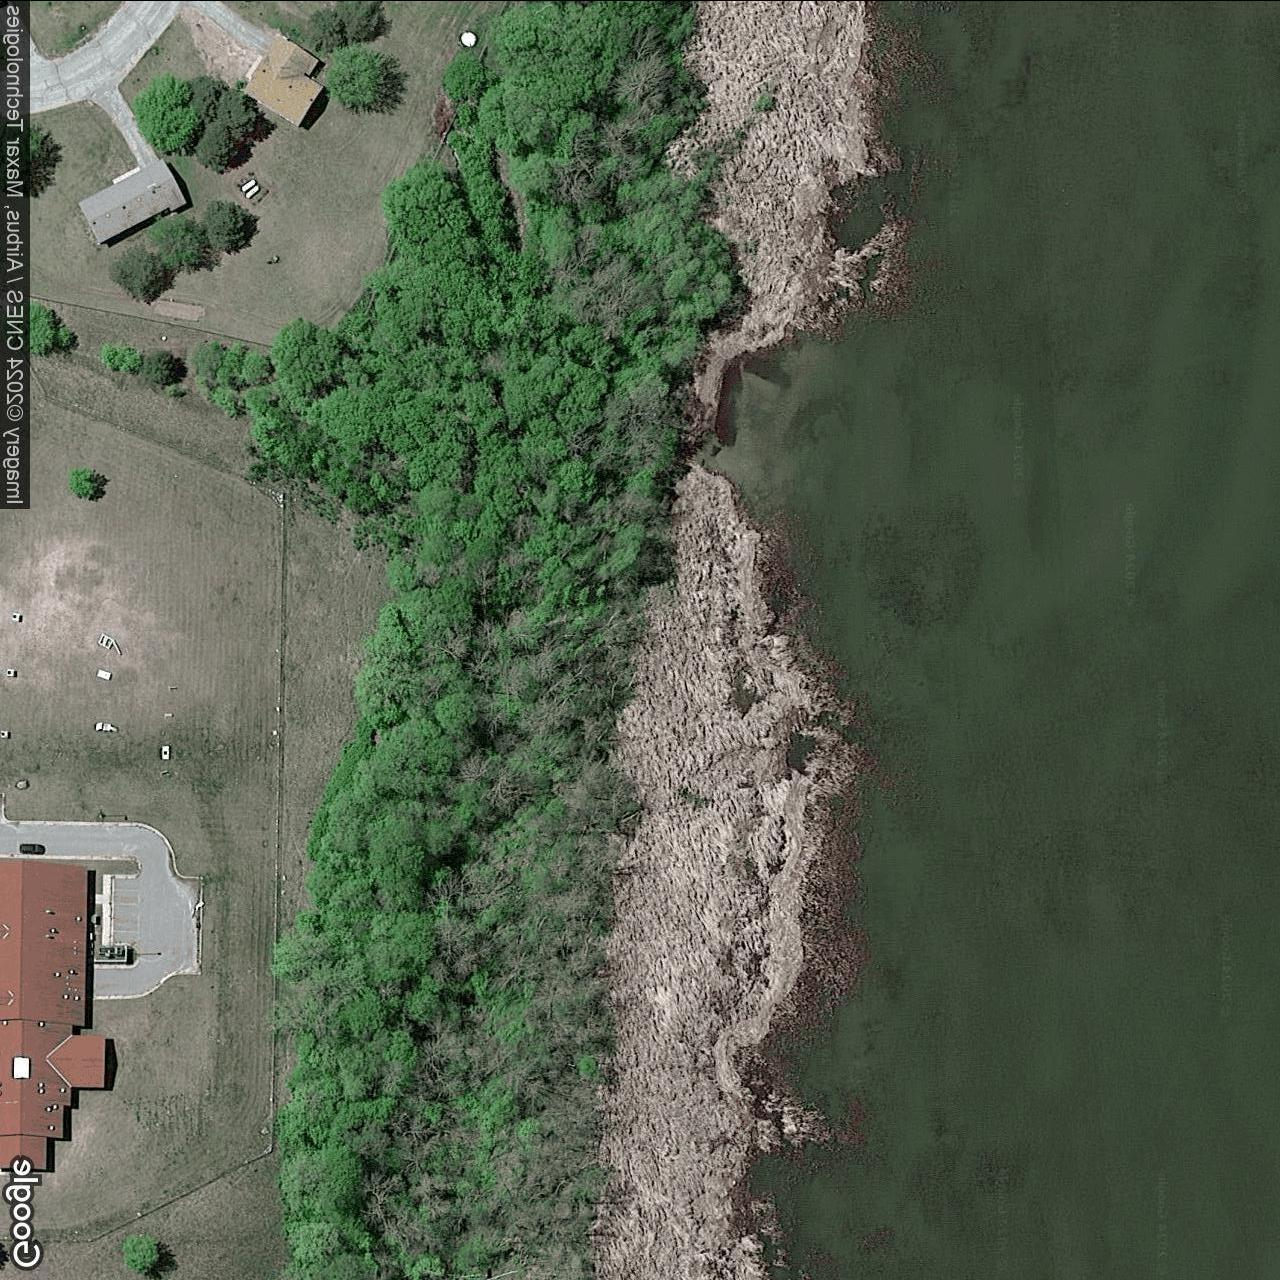House: (77, 156, 188, 243), (241, 32, 324, 127)
Other: (1, 856, 107, 1172)
Propane: (243, 183, 261, 202), (239, 177, 258, 192)
